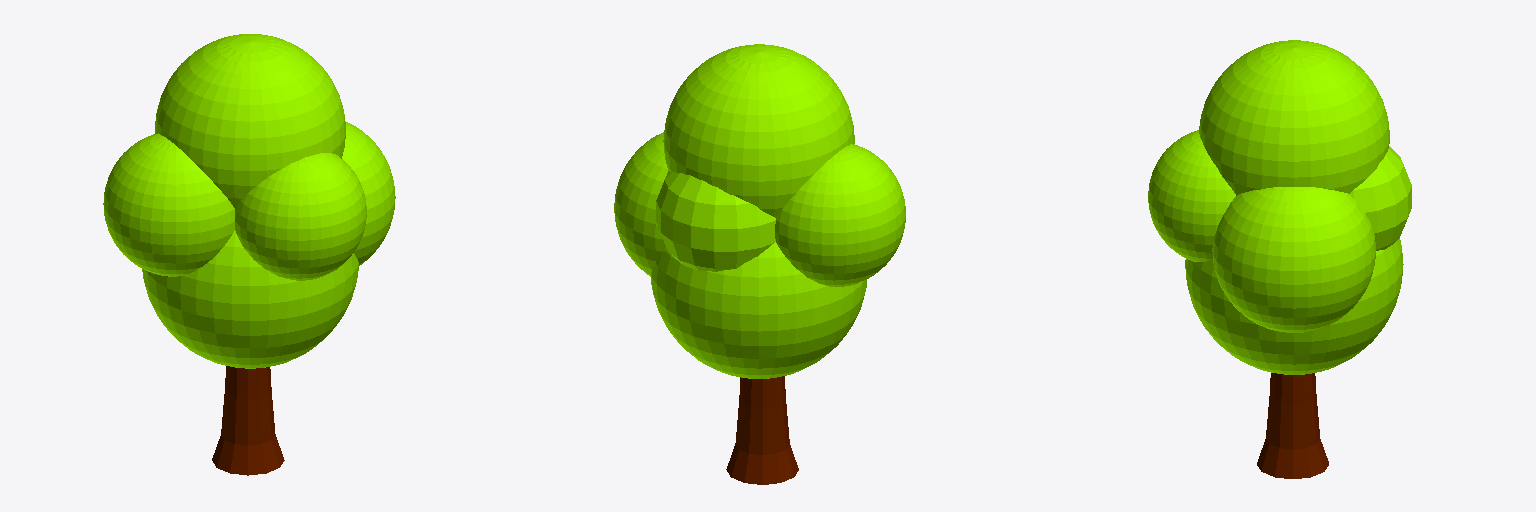
File: tree3.obj
The picture shows the model from 3 angles: view 1: azimuth 30°, elevation 25°; view 2: azimuth 150°, elevation 25°; view 3: azimuth 270°, elevation 25°; orthographic projection.
Visible parts, largest first — view 1: Cartoon_tree_3; view 2: Cartoon_tree_3; view 3: Cartoon_tree_3.
Part boxes in pixels (x1,y1,x2,y2): Cartoon_tree_3: (103,34,395,475); Cartoon_tree_3: (614,44,905,484); Cartoon_tree_3: (1148,40,1411,478).
Size of the model in its own units: 42.14 by 61.88 by 35.49.